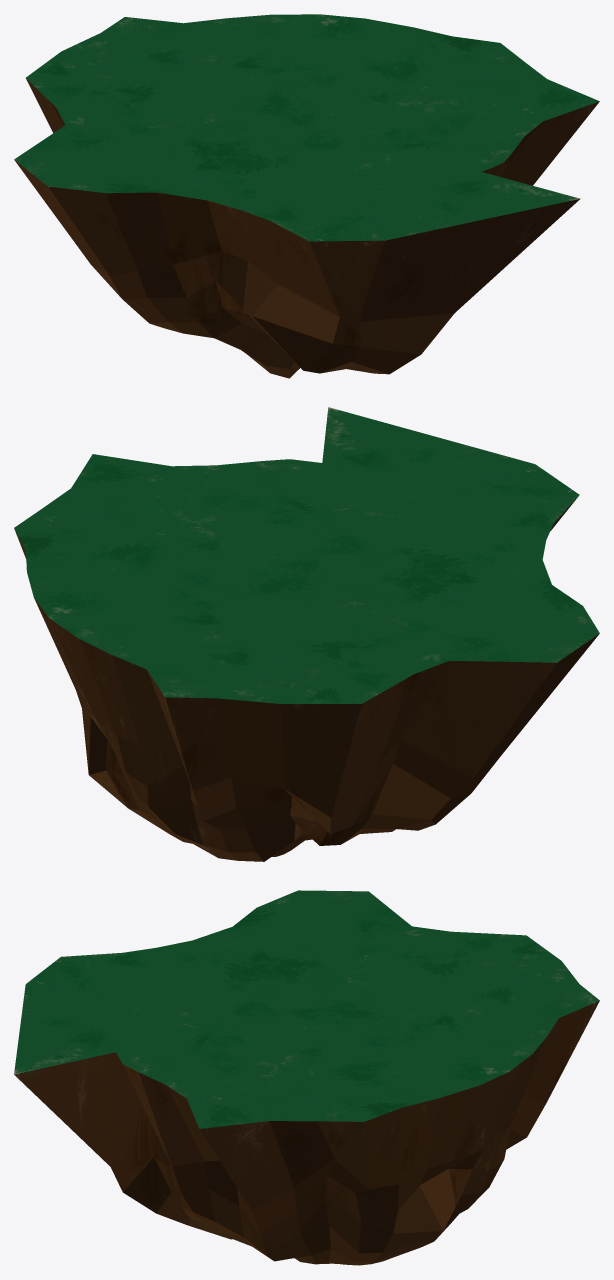
The model's file is world_island.fbx.
The picture shows the model from 3 angles, top to bottom: view 1: azimuth 30°, elevation 25°; view 2: azimuth 150°, elevation 25°; view 3: azimuth 270°, elevation 25°; orthographic projection. The views are drawn at different scales.
Visible parts, largest first — view 1: Sphere001; view 2: Sphere001; view 3: Sphere001.
Part boxes in pixels (box(x1,y1,x2,y2)): Sphere001: box(14, 14, 599, 378); Sphere001: box(14, 407, 599, 861); Sphere001: box(14, 890, 599, 1265).
Bounding box in the file's own units: 803 × 367 × 834.
Materials: 1 (1 with a texture image).
